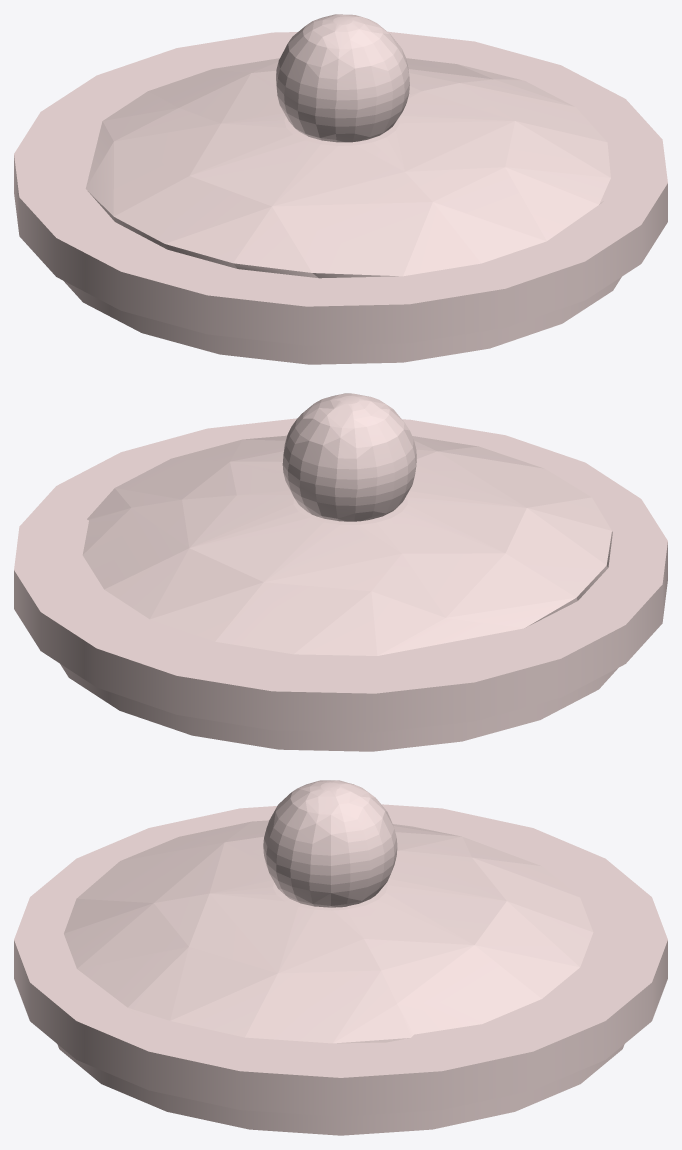
File: TapaDos.obj
3 views of the same model, one above another, from view 1: azimuth 30°, elevation 25°; view 2: azimuth 150°, elevation 25°; view 3: azimuth 270°, elevation 25° (orthographic).
Parts seen in each view (by area): view 1: polySurface41; view 2: polySurface41; view 3: polySurface41.
Boxes of the visible parts, <box> form: polySurface41: <box>14,14,667,364</box>; polySurface41: <box>14,393,667,751</box>; polySurface41: <box>14,780,667,1135</box>.
Bounding box in the file's own units: 0.2718 × 0.1021 × 0.2718.
Materials: 2 (2 with a texture image).
